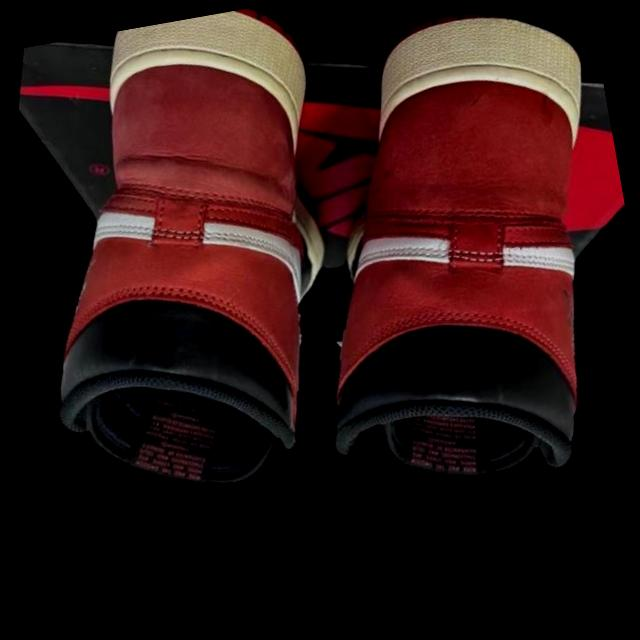nike_original_jordan: (0, 0, 437, 562), (239, 0, 640, 551)
